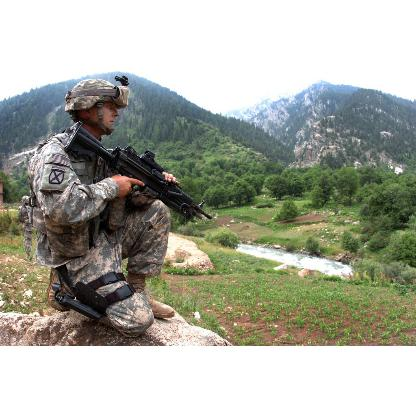gun: (58, 132, 208, 224)
